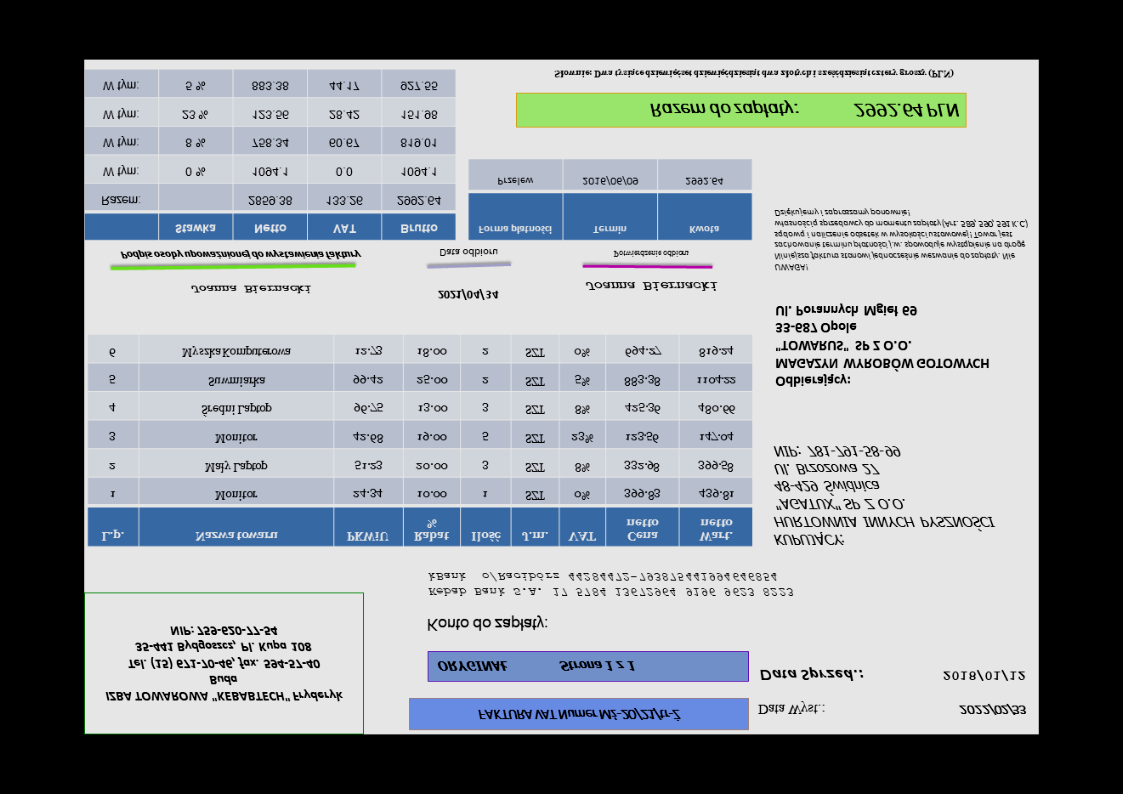Table: (86, 334, 753, 547), (85, 69, 457, 241), (468, 158, 752, 241)
TextBox: (771, 443, 996, 549), (104, 622, 345, 704), (774, 301, 991, 389), (773, 207, 1030, 275), (427, 569, 797, 599), (648, 98, 961, 120), (552, 66, 955, 81), (118, 248, 360, 263), (476, 706, 683, 723), (435, 659, 638, 675), (425, 613, 550, 634), (758, 665, 864, 684), (583, 279, 718, 293), (190, 282, 312, 296), (940, 668, 1028, 684), (955, 702, 1029, 717), (435, 286, 500, 303), (756, 701, 825, 717), (612, 248, 690, 259), (437, 247, 498, 258)
